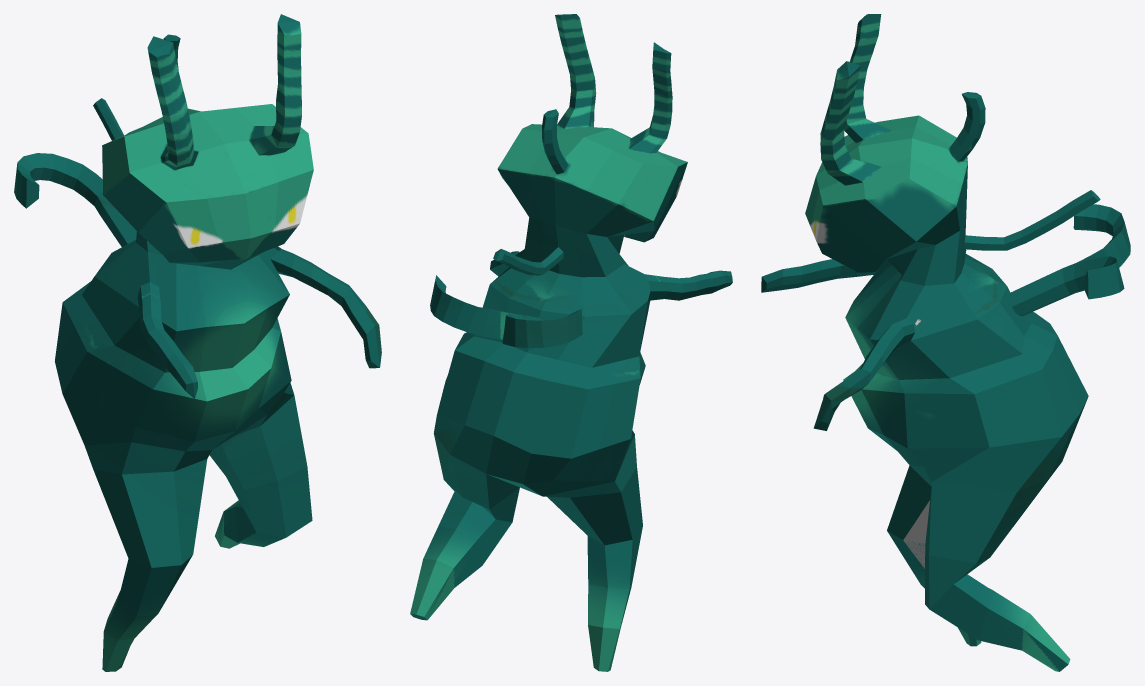
The model's file is monstruo1_caminar_29.obj.
3 renders of one model, left to right at view 1: azimuth 30°, elevation 25°; view 2: azimuth 150°, elevation 25°; view 3: azimuth 270°, elevation 25°, orthographic. The views are drawn at different scales.
Visible parts, largest first — view 1: Monstruo_basico; view 2: Monstruo_basico; view 3: Monstruo_basico.
Boxes of the visible parts, box(x1,y1,x2,y2) form: Monstruo_basico: box(14, 14, 381, 671); Monstruo_basico: box(410, 14, 732, 671); Monstruo_basico: box(761, 14, 1130, 671).
Bounding box in the file's own units: 0.3674 × 1.02 × 0.5442.
